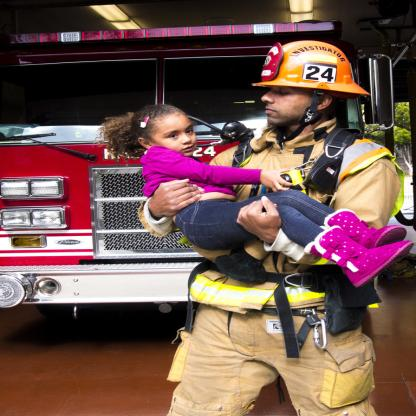Helmet: (258, 36, 374, 144)
